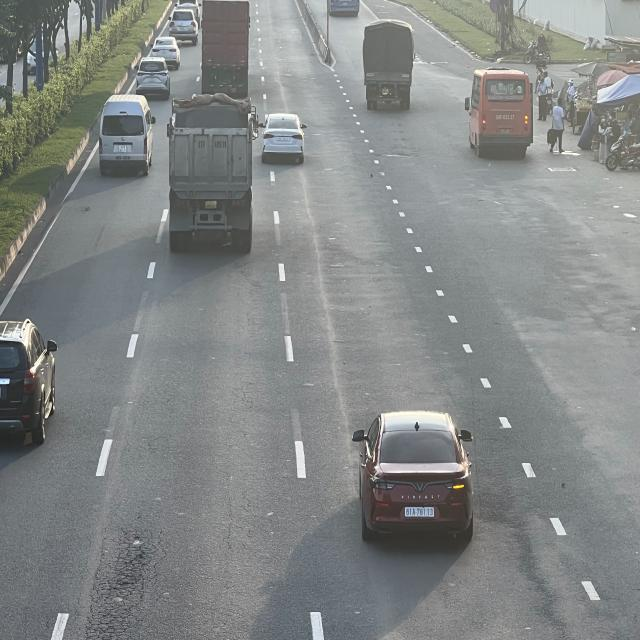car: (356, 414, 477, 550), (0, 317, 56, 443), (258, 112, 308, 164), (135, 57, 171, 97), (170, 4, 200, 46), (150, 35, 180, 67)
container: (167, 93, 255, 251), (201, 0, 251, 99)
truck: (360, 19, 414, 108)
van: (466, 70, 536, 160), (101, 95, 157, 176)
